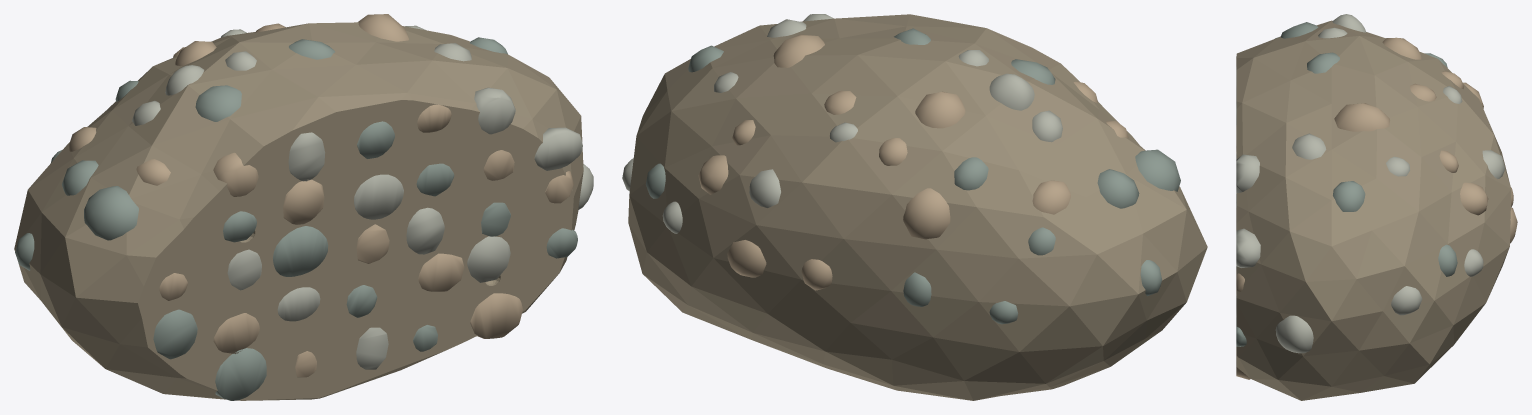
The model's file is conglomerate-outcrop.glb.
3 renders of one model, left to right at view 1: azimuth 30°, elevation 25°; view 2: azimuth 150°, elevation 25°; view 3: azimuth 270°, elevation 25°, orthographic. The views are drawn at different scales.
Visible parts, largest first — view 1: continuous finer-grained matrix with original teaching fract, rounded clasts embedded through continuous matrix; view 2: continuous finer-grained matrix with original teaching fract, rounded clasts embedded through continuous matrix; view 3: continuous finer-grained matrix with original teaching fract, rounded clasts embedded through continuous matrix.
Boxes of the visible parts, box(x1,y1,x2,y2) form: continuous finer-grained matrix with original teaching fract: box(14, 22, 583, 400); rounded clasts embedded through continuous matrix: box(15, 14, 593, 400); continuous finer-grained matrix with original teaching fract: box(628, 14, 1207, 400); rounded clasts embedded through continuous matrix: box(622, 14, 1180, 324); continuous finer-grained matrix with original teaching fract: box(1236, 20, 1511, 400); rounded clasts embedded through continuous matrix: box(1236, 14, 1517, 379).
Bounding box in the file's own units: 0.8034 × 0.4476 × 0.4143.
